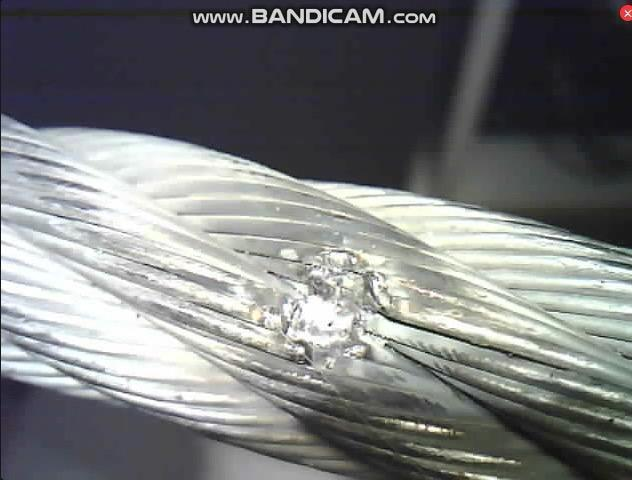thunderbolt: (247, 238, 418, 382)
